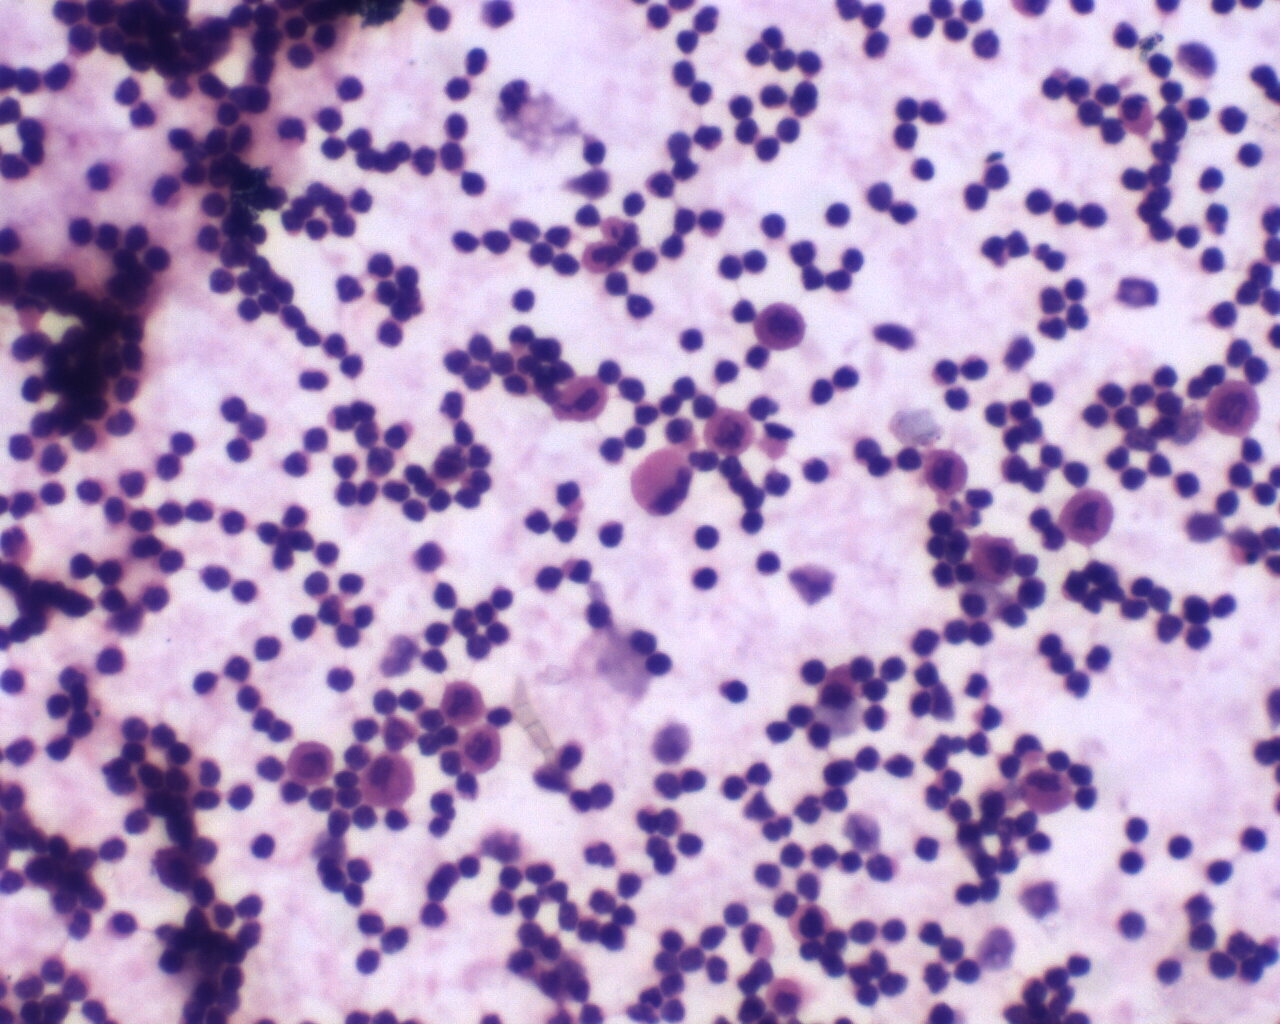ab: (1054, 484, 1119, 546), (1198, 375, 1263, 436), (750, 295, 809, 354), (360, 748, 416, 808), (972, 532, 1024, 586), (704, 405, 757, 460), (438, 676, 490, 729), (282, 739, 335, 791), (922, 445, 971, 497), (458, 726, 503, 775)
lymph: (1200, 853, 1242, 894), (908, 832, 948, 871), (532, 561, 566, 603), (1113, 844, 1150, 882), (674, 320, 709, 357), (333, 67, 368, 104), (759, 205, 794, 239), (959, 180, 993, 216), (521, 503, 554, 539), (805, 375, 837, 412), (796, 453, 829, 489), (1198, 245, 1232, 278), (1026, 378, 1061, 411), (352, 948, 385, 981), (457, 169, 489, 202), (229, 573, 260, 606), (223, 433, 254, 466), (797, 47, 828, 82), (338, 352, 370, 383), (1164, 827, 1194, 860), (676, 829, 709, 859), (253, 632, 284, 664), (508, 284, 540, 315), (1058, 271, 1089, 303), (686, 561, 720, 590), (1080, 197, 1110, 231), (821, 200, 854, 229), (893, 93, 923, 125), (218, 506, 247, 539), (1121, 814, 1151, 844), (457, 848, 487, 879), (722, 677, 753, 706), (669, 56, 698, 88), (691, 523, 723, 551), (1197, 166, 1224, 193)
meso: (761, 973, 810, 1018)
